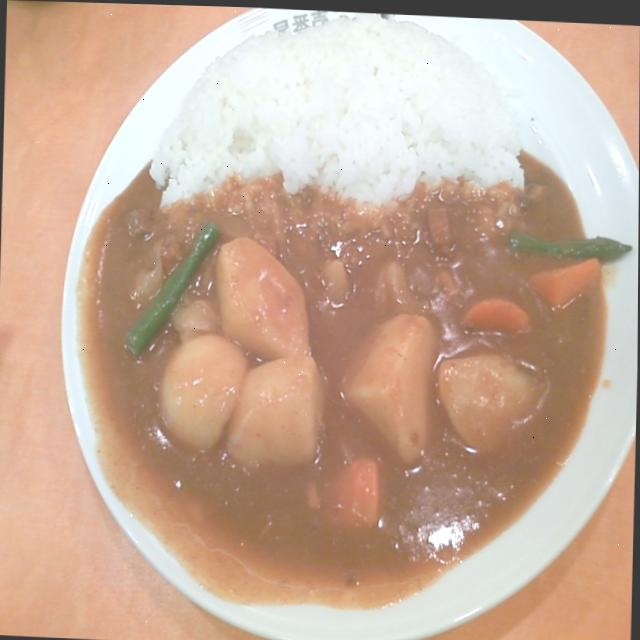牛肉菜式: (53, 12, 623, 634)
